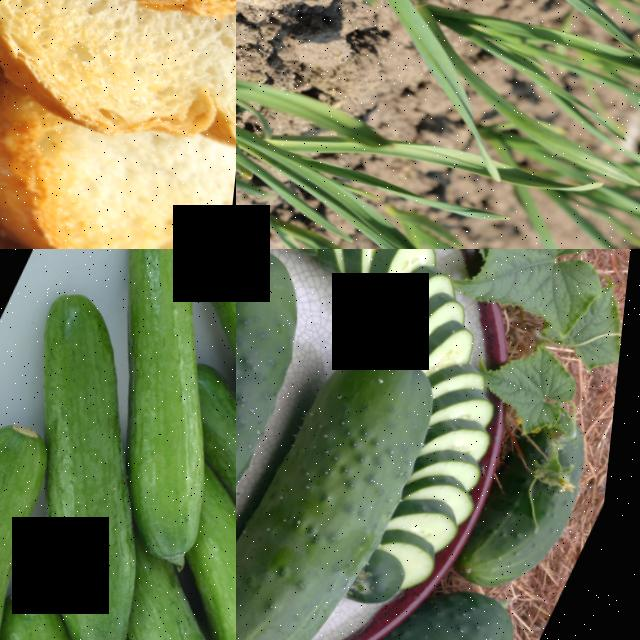cucumber: (236, 317, 469, 640), (2, 466, 188, 640), (0, 282, 157, 455), (236, 249, 351, 474), (71, 249, 236, 394), (0, 409, 81, 640), (463, 461, 592, 601), (351, 563, 541, 640)
